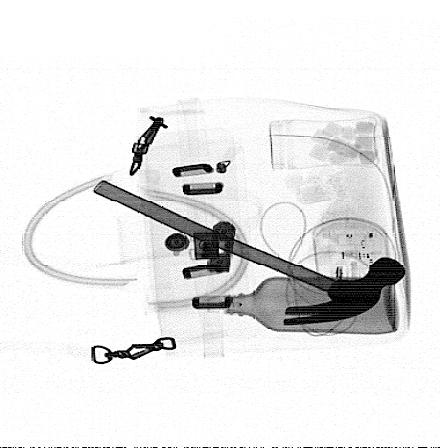Hammer: (92, 179, 407, 326)
